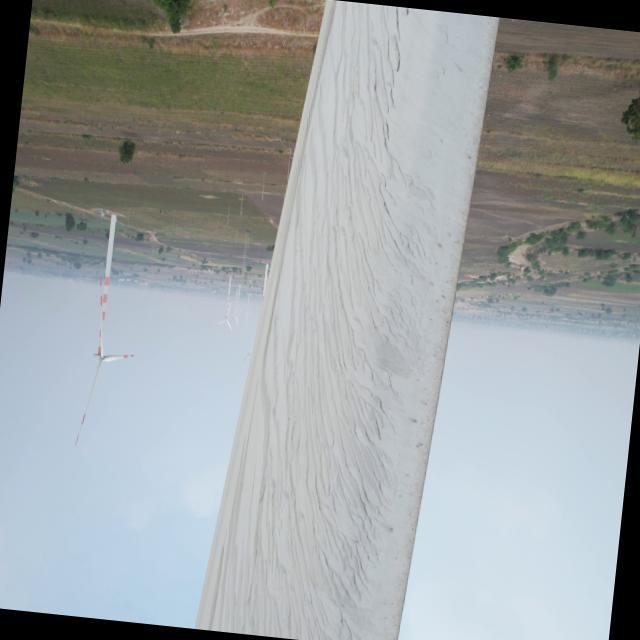Dirt: (203, 7, 448, 640)
